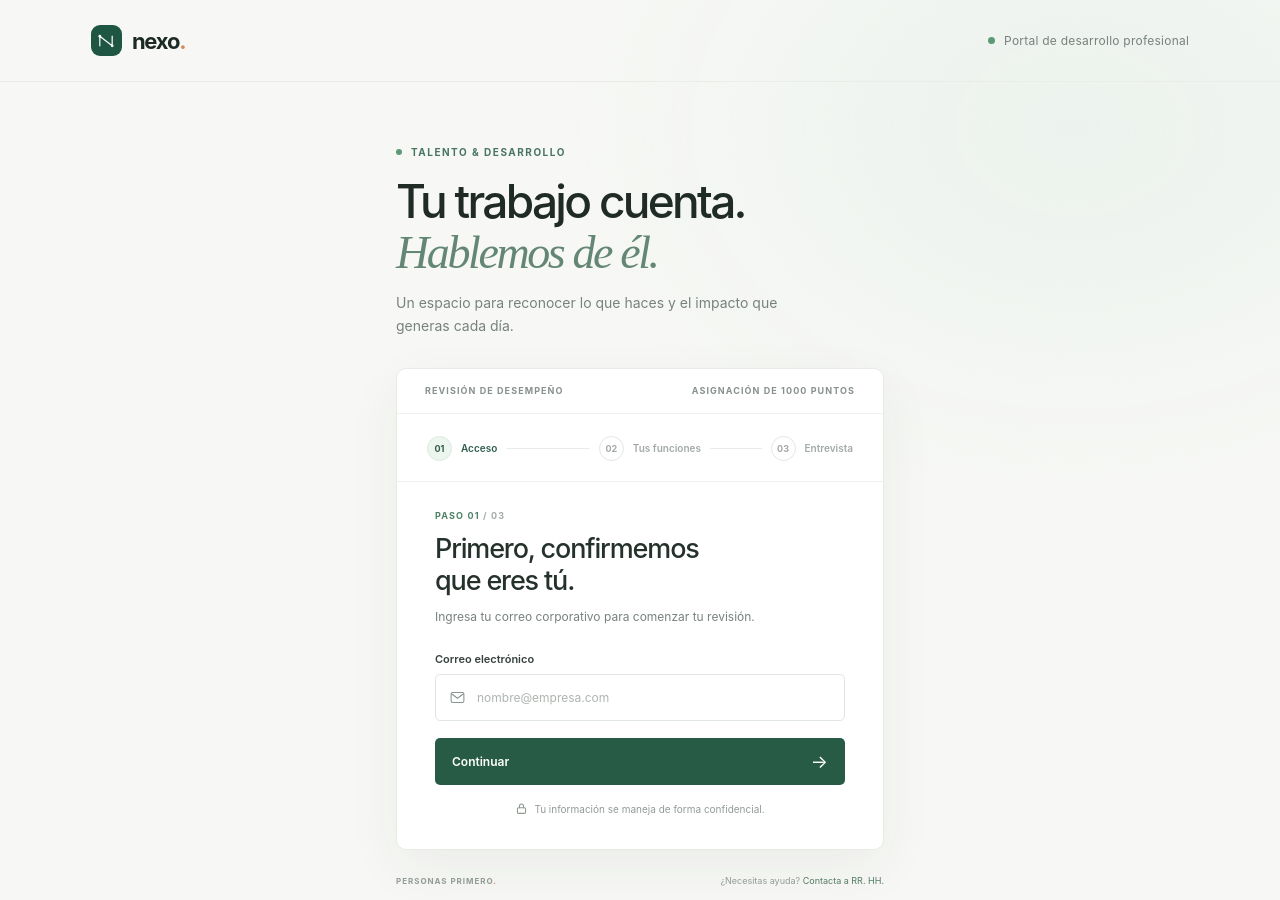
Test: flujo de revisión de desempeño › acepta el correo permitido sin distinguir mayúsculas y muestra el paso de funciones
The width and height of the screenshot is (1280, 900).
Type "LAURA.MENDEZ@EMPRESA-DEMO.EXAMPLE" into the field labelled "Correo electrónico" at (654, 698), box left=477, top=675, right=831, bottom=720
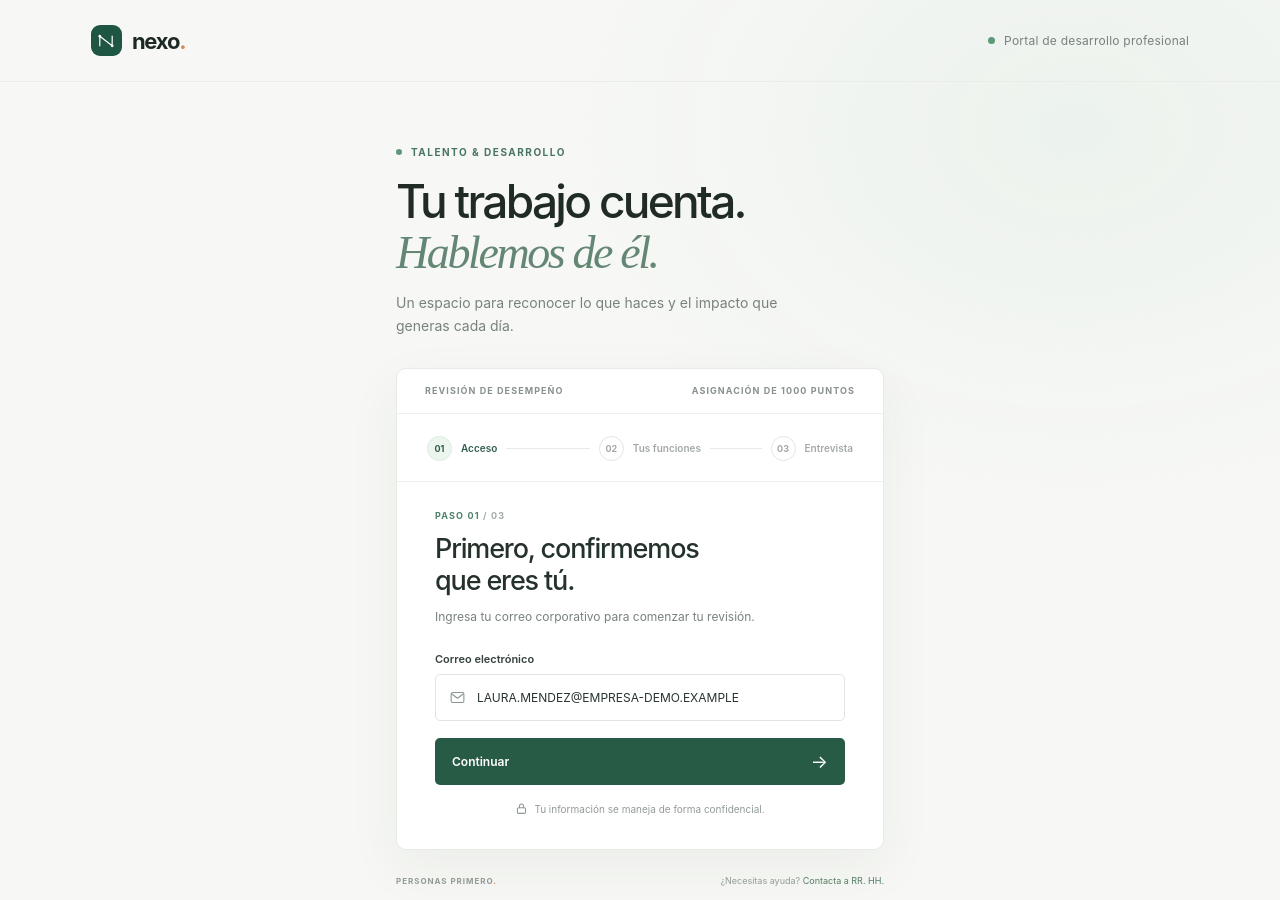
Click the button "Continuar →" at (481, 762), box left=435, top=738, right=845, bottom=785
(page scrolled)
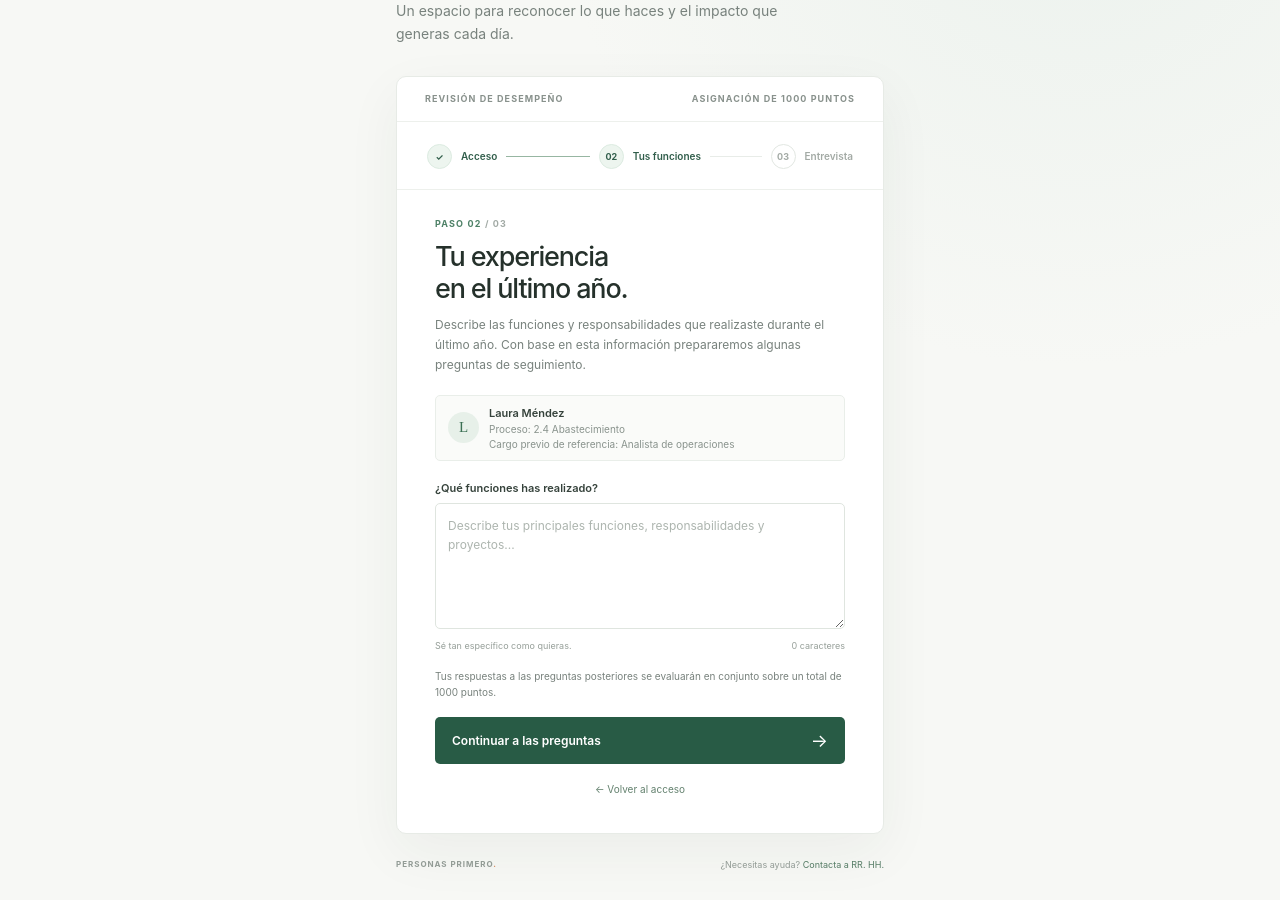
Now the text "Laura Méndez" is shown, box left=489, top=406, right=564, bottom=420
Now the text box labelled "¿Qué funciones has realizado?" is shown, box left=435, top=503, right=845, bottom=629
